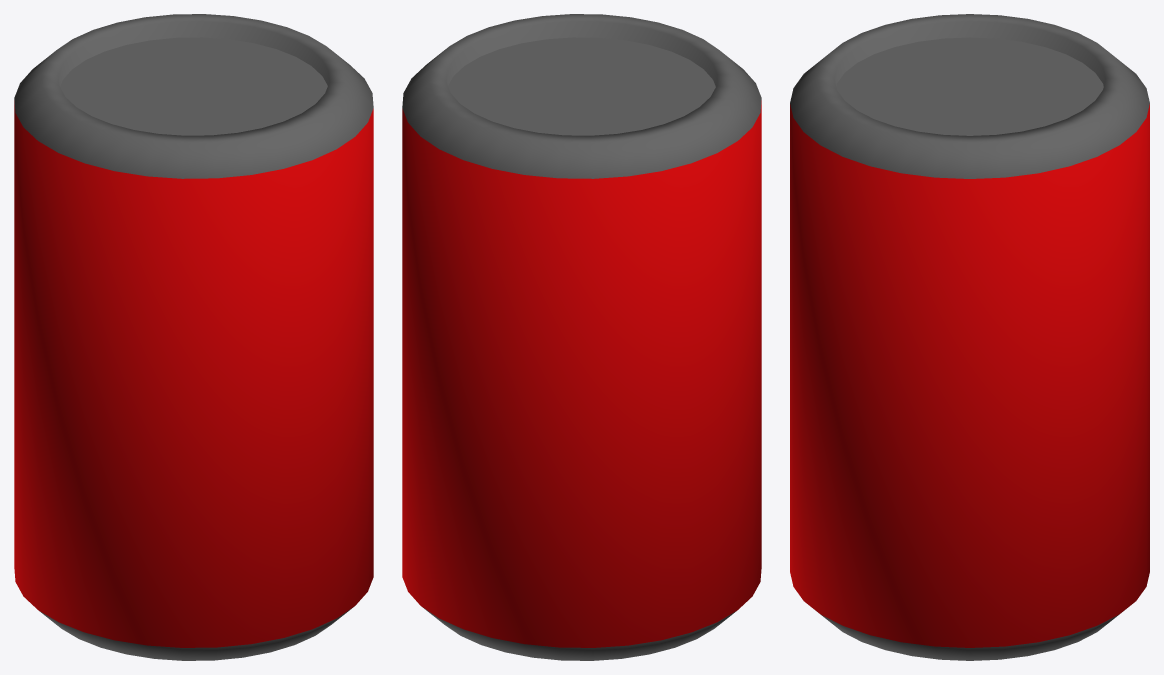
The model's file is lata.fbx.
3 renders of one model, left to right at view 1: azimuth 30°, elevation 25°; view 2: azimuth 150°, elevation 25°; view 3: azimuth 270°, elevation 25°, orthographic.
Visible parts, largest first — view 1: Cylinder.006; view 2: Cylinder.006; view 3: Cylinder.006.
Boxes of the visible parts, box(x1,y1,x2,y2) form: Cylinder.006: box(14, 14, 373, 660); Cylinder.006: box(402, 14, 761, 660); Cylinder.006: box(790, 14, 1149, 660).
Size of the model in its own units: 38.1 by 60.46 by 38.1.
